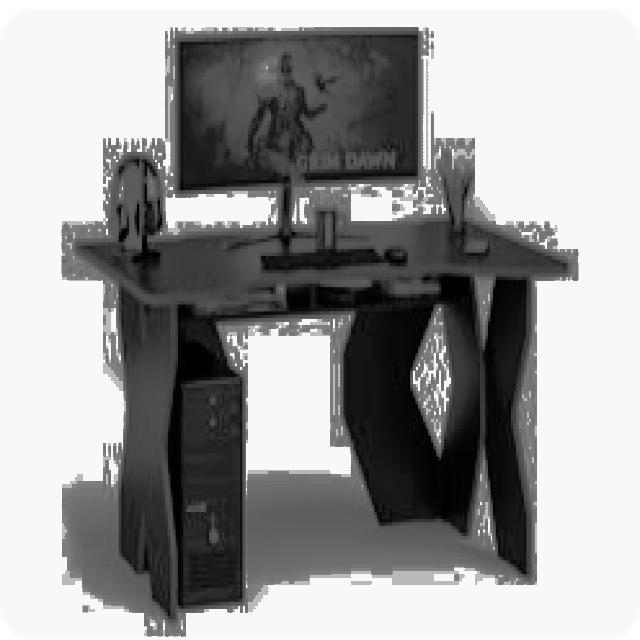table: (72, 215, 568, 620)
